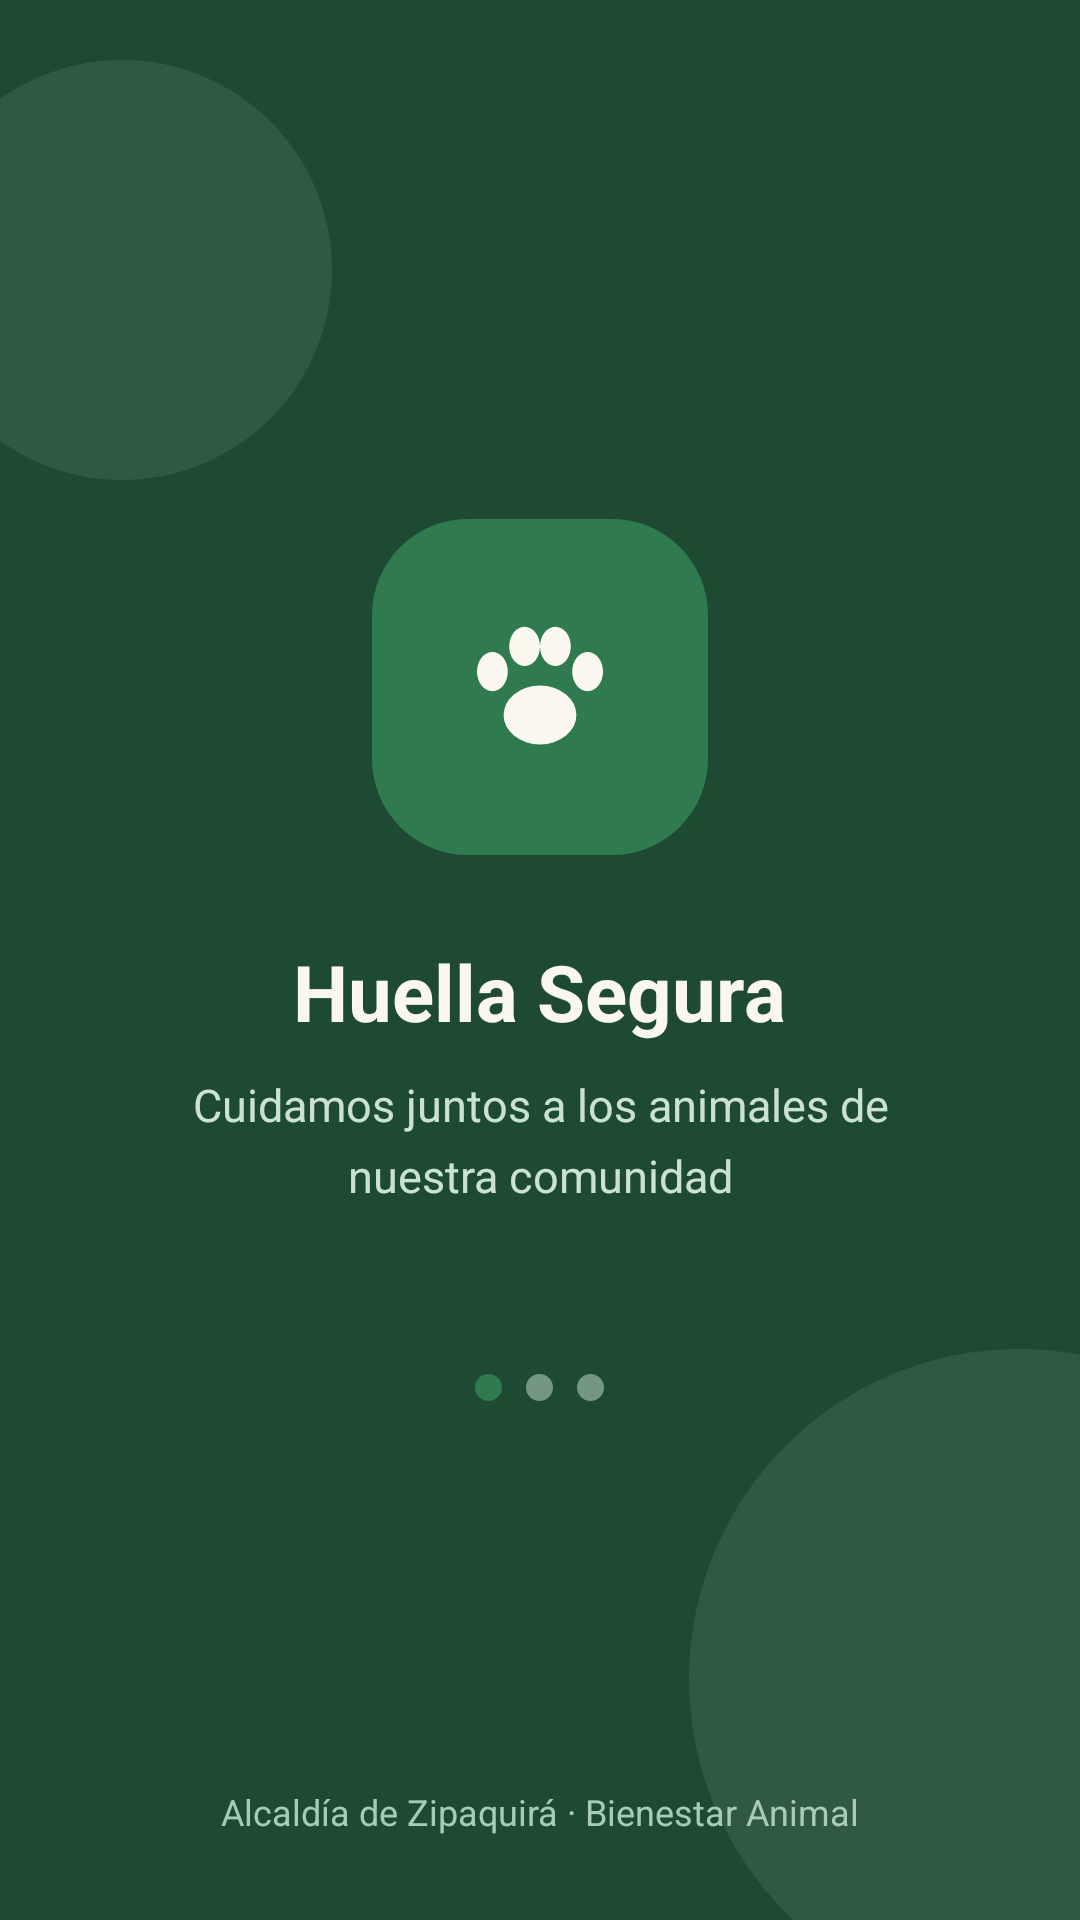

Screen size 1080 x 1920. Icon name, then its box in pixels as region(x1, y1, x2, y2):
Huella Segura: region(477, 626, 603, 745)
